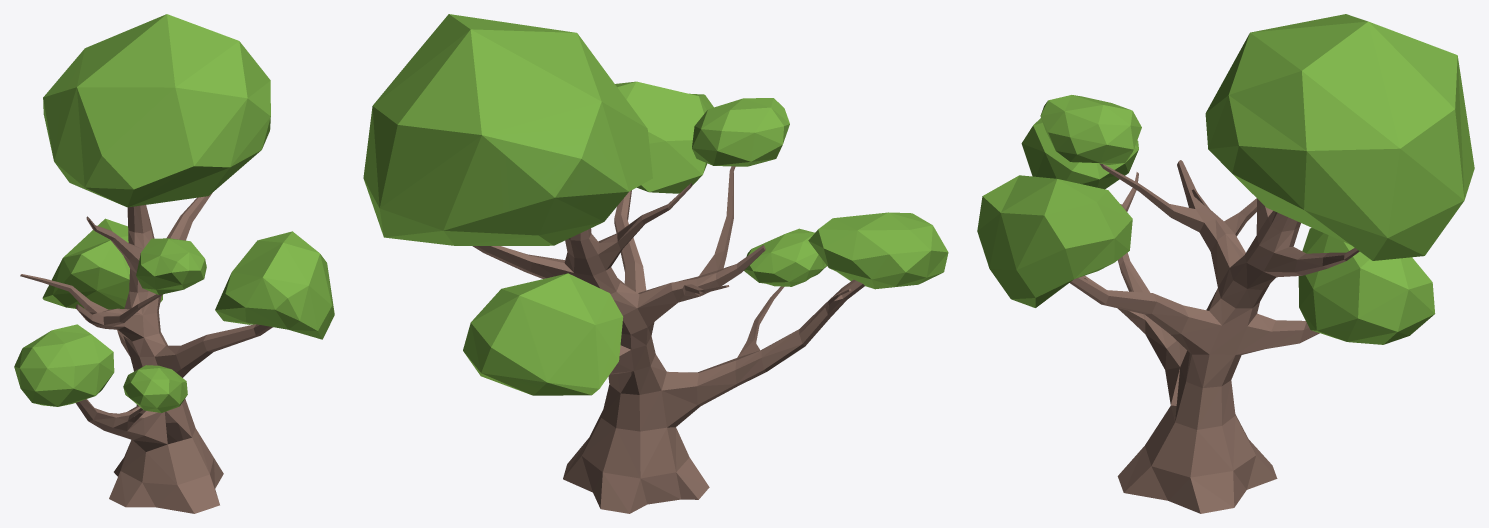
The model's file is Pohon_2.glb.
The picture shows the model from 3 angles, left to right: view 1: azimuth 30°, elevation 25°; view 2: azimuth 150°, elevation 25°; view 3: azimuth 270°, elevation 25°; orthographic projection. The views are drawn at different scales.
Parts seen in each view (by area): view 1: rock02_Mesh_007_Base_0.458; view 2: rock02_Mesh_007_Base_0.458; view 3: rock02_Mesh_007_Base_0.458.
Boxes of the visible parts, x1,y1,x2,y2 form: rock02_Mesh_007_Base_0.458: [14, 14, 334, 513]; rock02_Mesh_007_Base_0.458: [363, 14, 948, 513]; rock02_Mesh_007_Base_0.458: [977, 14, 1474, 513].
Bounding box in the file's own units: 7.07 × 7.97 × 7.2.
1 material, 1 textured.
